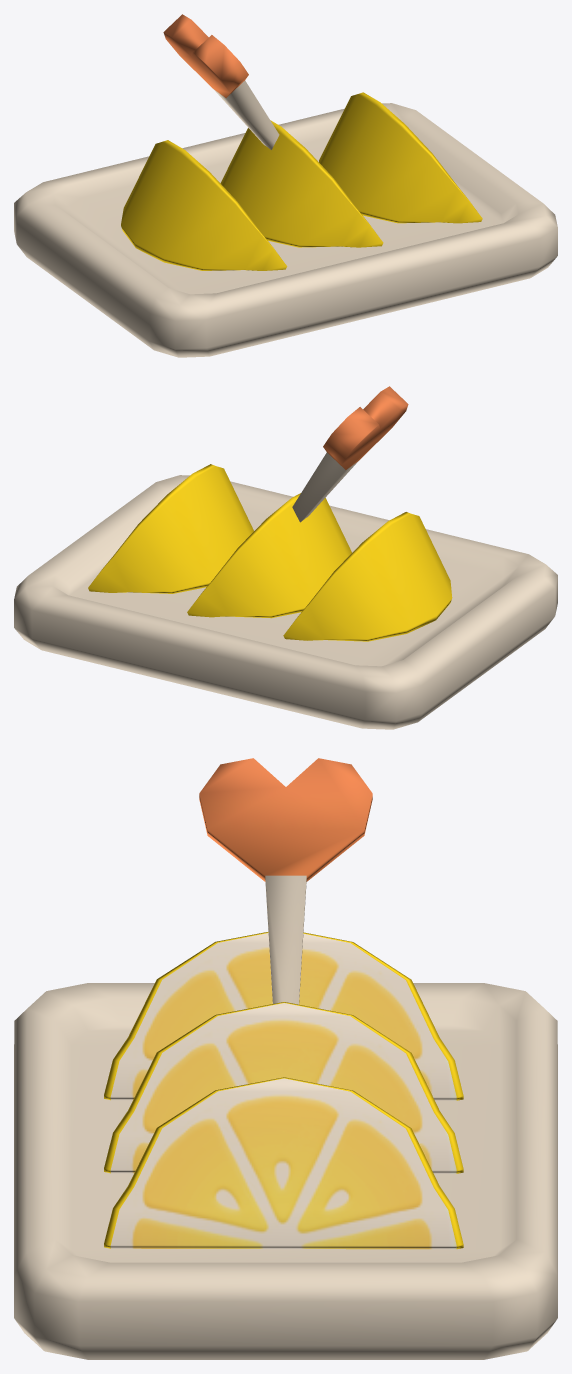
File: Homestead_nm_17.fbx
3 views of the same model, one above another, from view 1: azimuth 30°, elevation 25°; view 2: azimuth 150°, elevation 25°; view 3: azimuth 270°, elevation 25° (orthographic). The views are drawn at different scales.
Parts seen in each view (by area): view 1: Homestead_nm_17; view 2: Homestead_nm_17; view 3: Homestead_nm_17.
Boxes of the visible parts, <box> form: Homestead_nm_17: <box>14,14,557,357</box>; Homestead_nm_17: <box>14,386,557,729</box>; Homestead_nm_17: <box>14,758,557,1359</box>.
Bounding box in the file's own units: 66.07 × 38.85 × 49.27.
